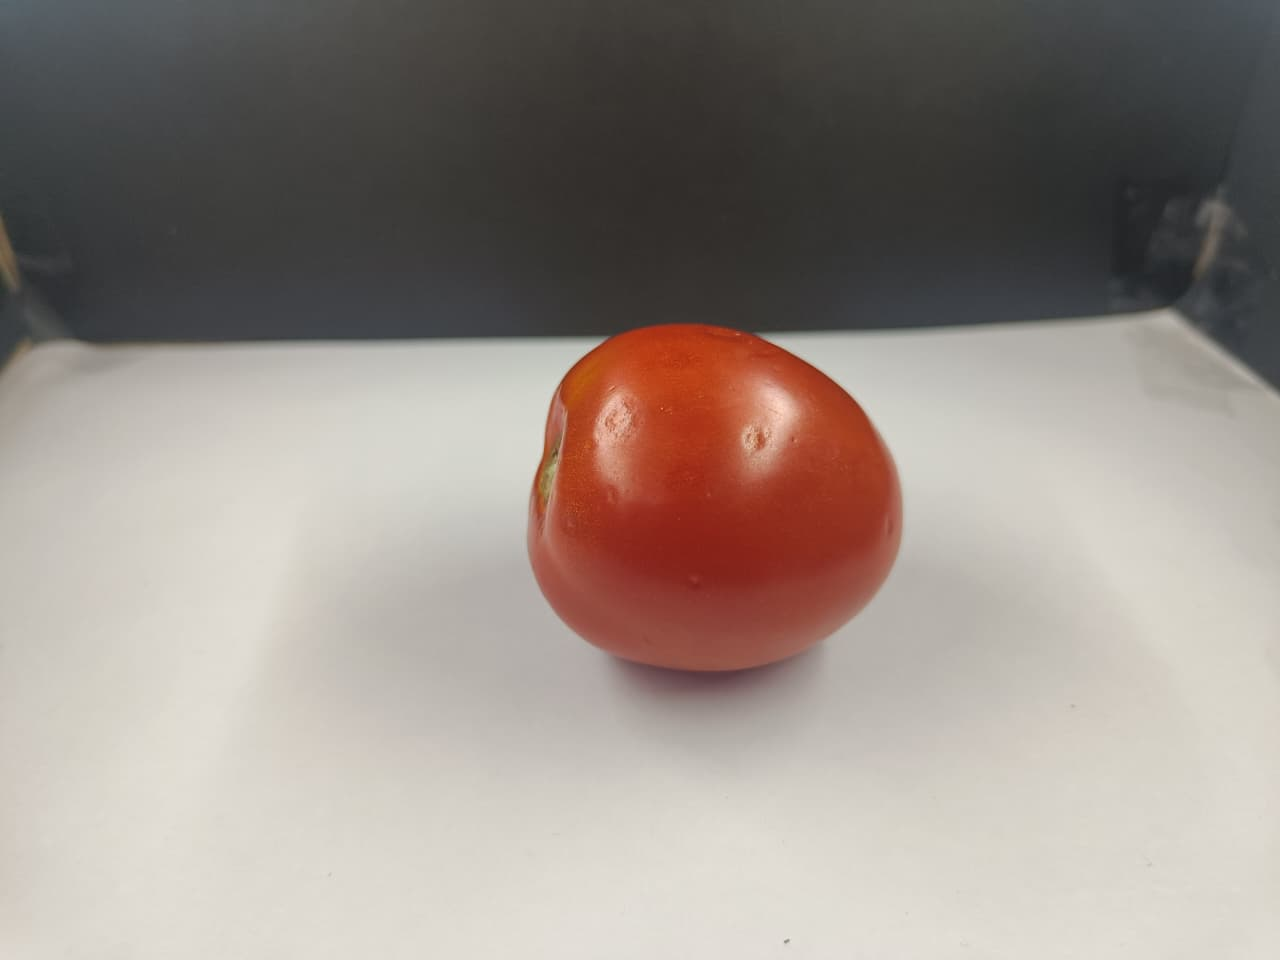ripe: (505, 323, 914, 695)
